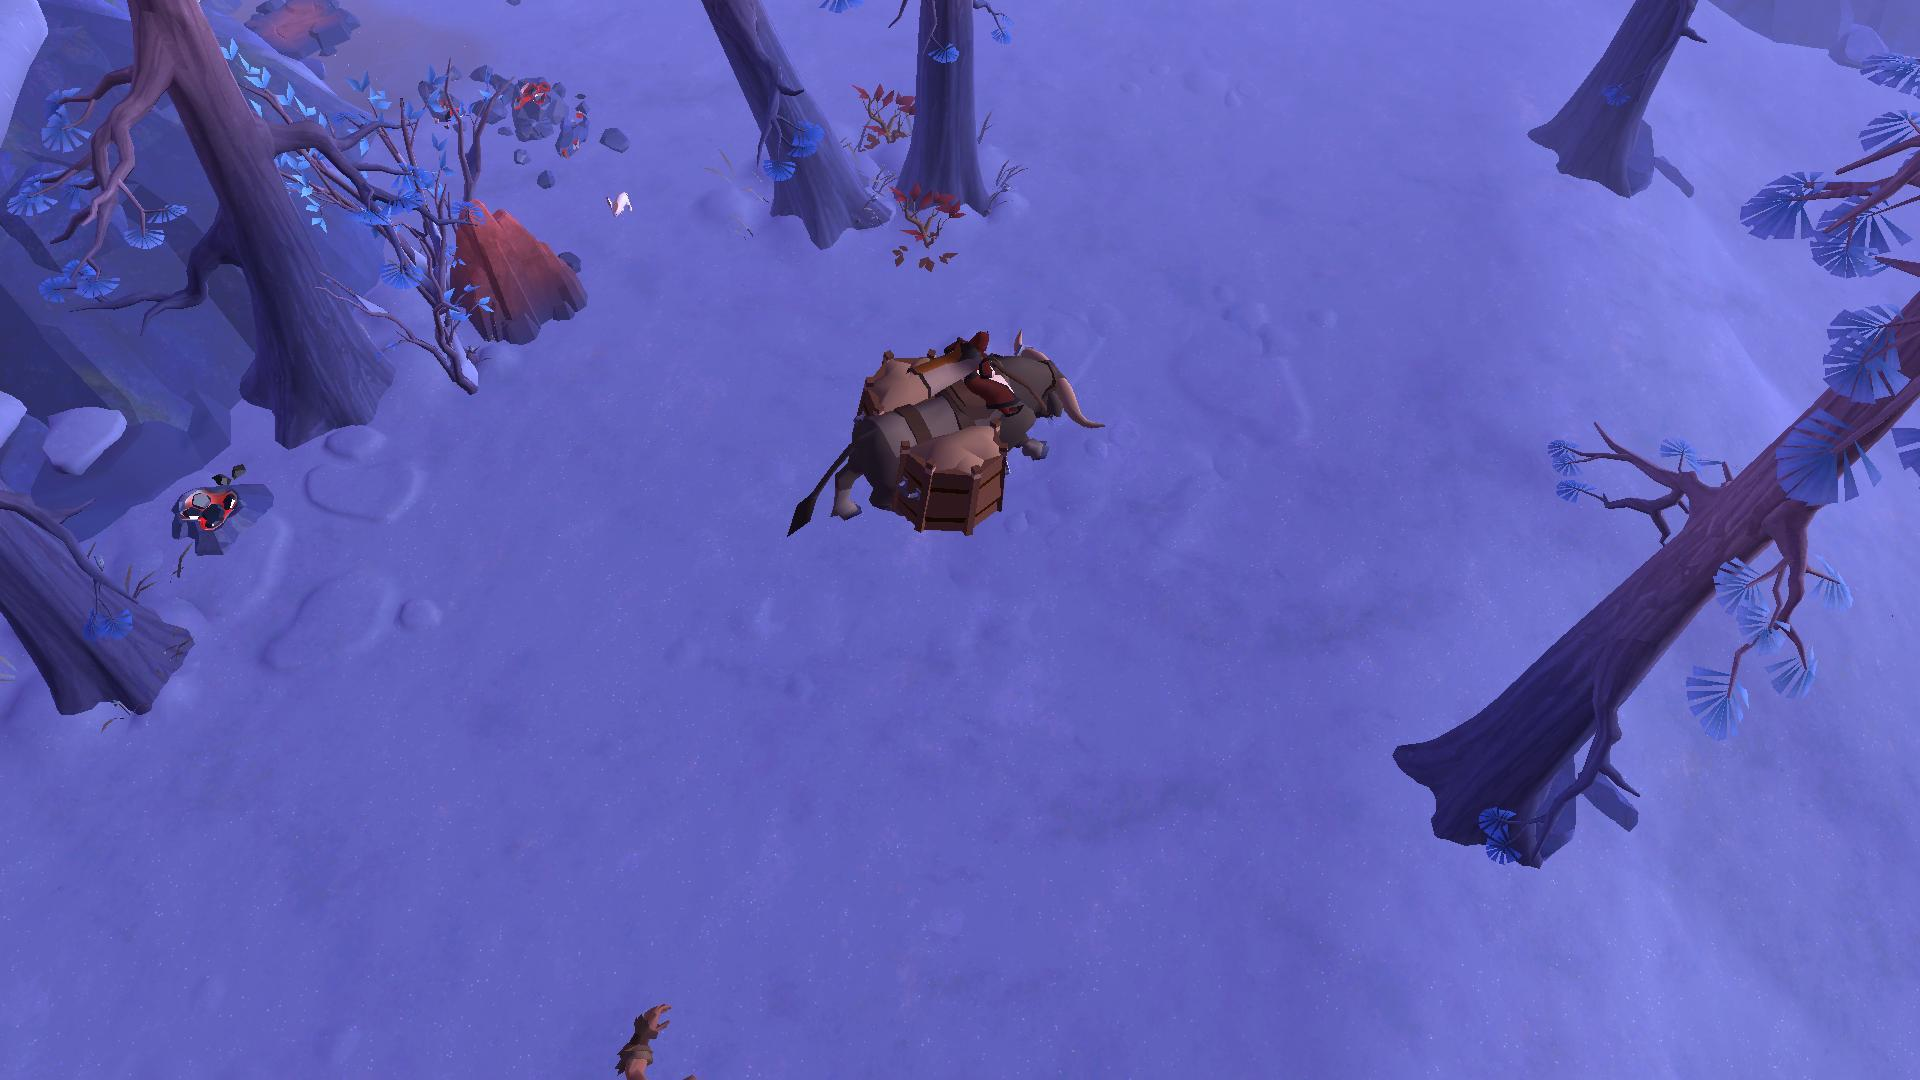rock_t5: (431, 189, 585, 342)
